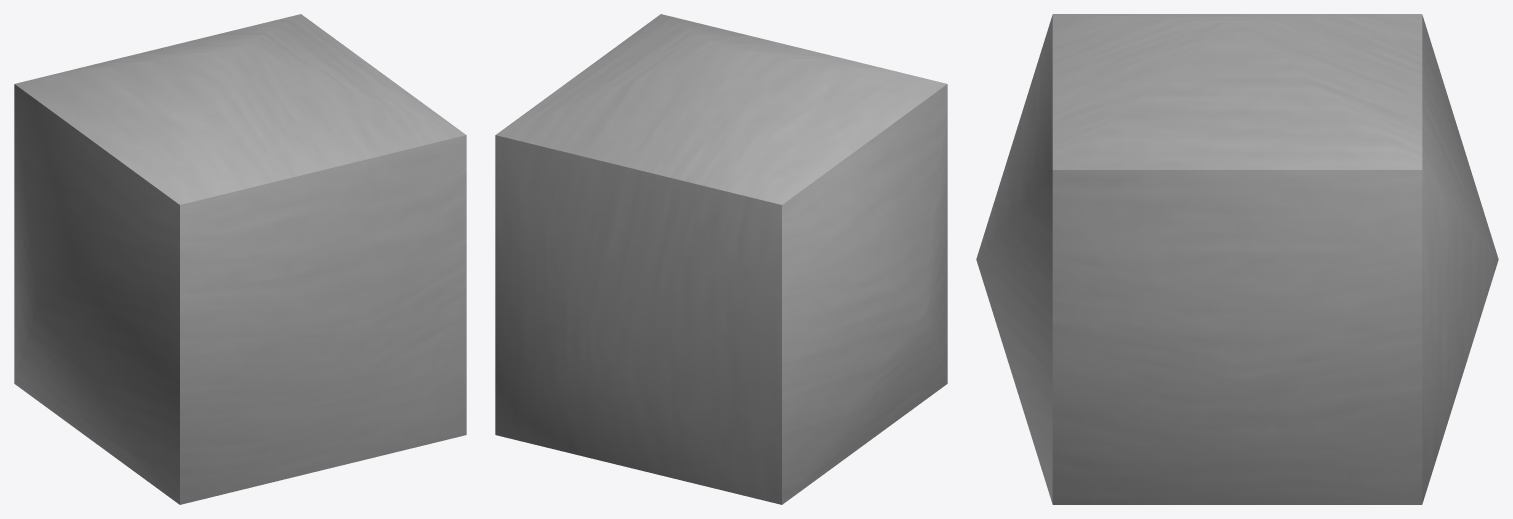
File: cable_node_core.obj
The picture shows the model from 3 angles, left to right: view 1: azimuth 30°, elevation 25°; view 2: azimuth 150°, elevation 25°; view 3: azimuth 270°, elevation 25°; orthographic projection. The views are drawn at different scales.
Visible parts, largest first — view 1: core_0; view 2: core_0; view 3: core_0.
Part boxes in pixels (bbox=[...]): core_0: bbox=[14, 14, 466, 504]; core_0: bbox=[495, 14, 947, 504]; core_0: bbox=[976, 14, 1498, 504].
Size of the model in its own units: 0.5 by 0.5 by 0.5.
